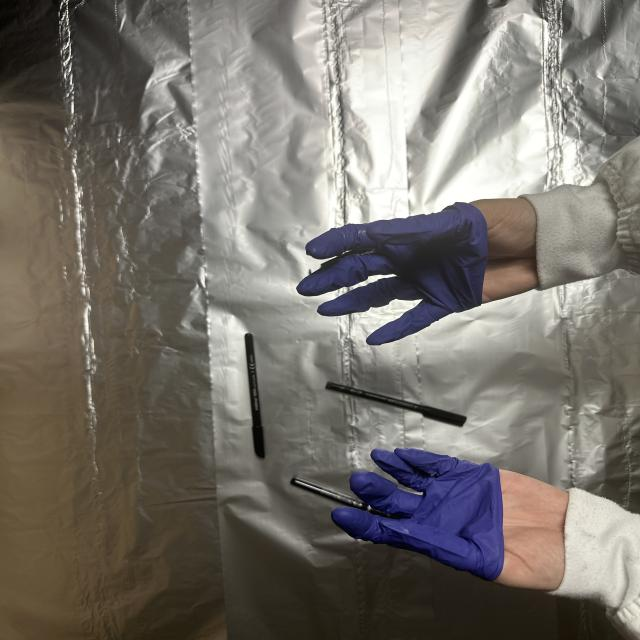glove_partial: (296, 196, 538, 348), (336, 443, 570, 598)
